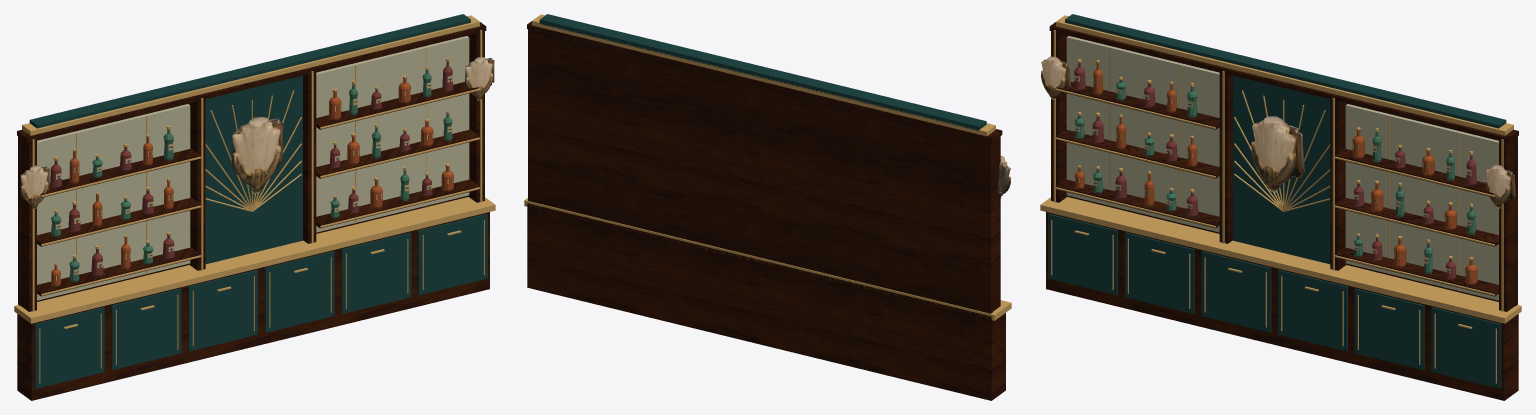
File: backbar.glb
The picture shows the model from 3 angles, left to right: view 1: azimuth 30°, elevation 25°; view 2: azimuth 150°, elevation 25°; view 3: azimuth 330°, elevation 25°; orthographic projection.
Visible parts, largest first — view 1: Midnight enamel, Smoked mirror, Bookmatched walnut, Brushed champagne brass, Amber decanters, Claret, Bottle green, Opaline fan 1, Aged brass casting 1, Parchment labels, Opaline fan 2, Opaline fan 3; view 2: Bookmatched walnut, Midnight enamel, Brushed champagne brass; view 3: Midnight enamel, Smoked mirror, Bookmatched walnut, Brushed champagne brass, Amber decanters, Claret, Bottle green, Opaline fan 1, Aged brass casting 1, Parchment labels, Opaline fan 2, Opaline fan 3 (+1 smaller).
Part boxes in pixels (<box>): Midnight enamel: <box>29,14,487,388</box>; Smoked mirror: <box>37,36,469,300</box>; Bookmatched walnut: <box>17,22,489,400</box>; Brushed champagne brass: <box>14,15,495,383</box>; Amber decanters: <box>51,77,453,286</box>; Claret: <box>50,61,453,276</box>; Bottle green: <box>51,70,452,282</box>; Opaline fan 1: <box>232,117,280,193</box>; Aged brass casting 1: <box>231,117,283,193</box>; Parchment labels: <box>55,75,453,280</box>; Opaline fan 2: <box>20,165,48,209</box>; Opaline fan 3: <box>465,57,492,100</box>; Bookmatched walnut: <box>527,21,1005,400</box>; Midnight enamel: <box>539,14,986,130</box>; Brushed champagne brass: <box>524,14,1011,320</box>; Midnight enamel: <box>1048,14,1506,388</box>; Smoked mirror: <box>1066,36,1498,300</box>; Bookmatched walnut: <box>1046,22,1518,400</box>; Brushed champagne brass: <box>1040,15,1521,383</box>; Amber decanters: <box>1075,62,1477,285</box>; Claret: <box>1073,63,1476,279</box>; Bottle green: <box>1074,79,1475,273</box>; Opaline fan 1: <box>1251,116,1301,192</box>; Aged brass casting 1: <box>1251,117,1304,191</box>; Parchment labels: <box>1074,75,1471,277</box>; Opaline fan 2: <box>1041,56,1069,99</box>; Opaline fan 3: <box>1485,165,1514,208</box>.
Size of the model in its own units: 6.18 by 3.34 by 0.3945.
Materials: 11 (1 with a texture image).
